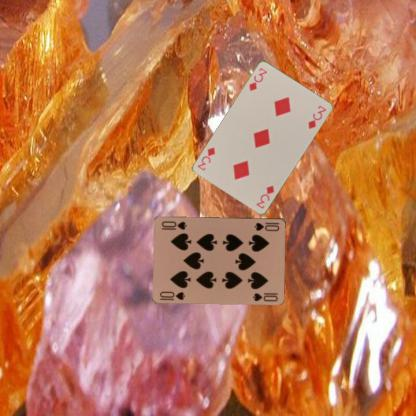10s: (252, 220, 281, 232), (158, 289, 186, 301)
3d: (246, 66, 269, 92), (254, 183, 276, 210)
